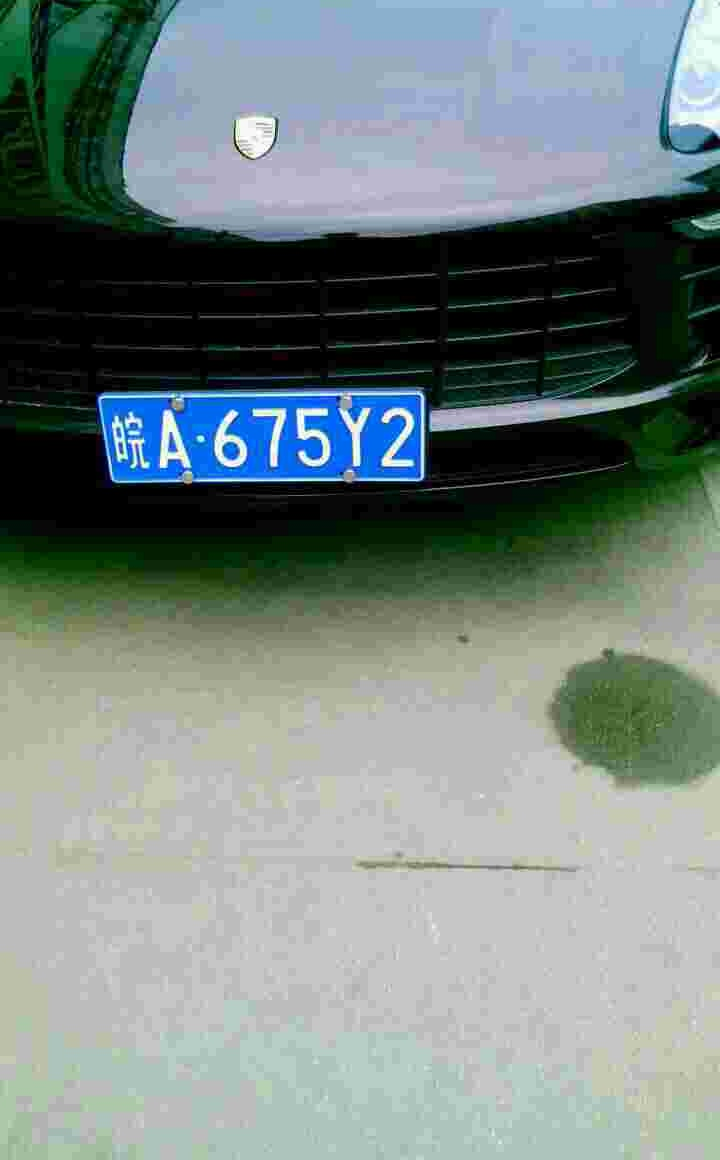license_plate: (94, 392, 424, 490)
